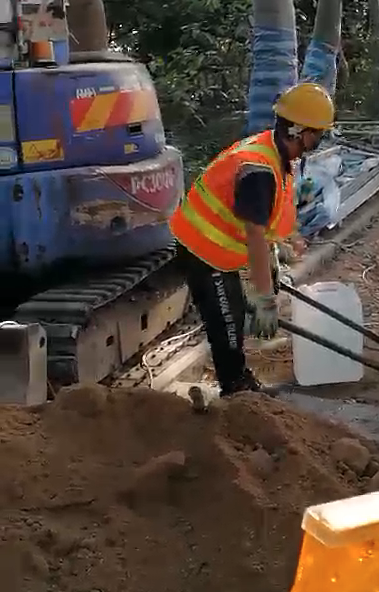Hard Hat: (274, 84, 336, 134)
Person: (173, 82, 336, 394)
Vest: (169, 123, 302, 270)
